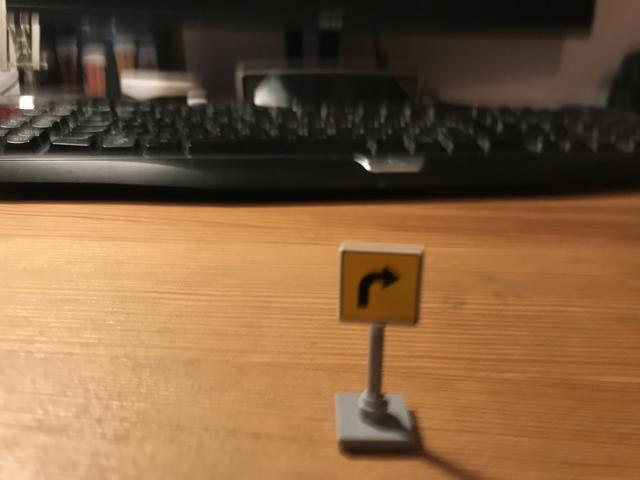fahrtrichtung rechts: (335, 242, 427, 327)
